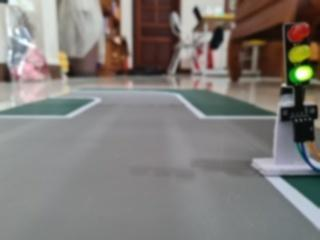green: (272, 14, 319, 99)
